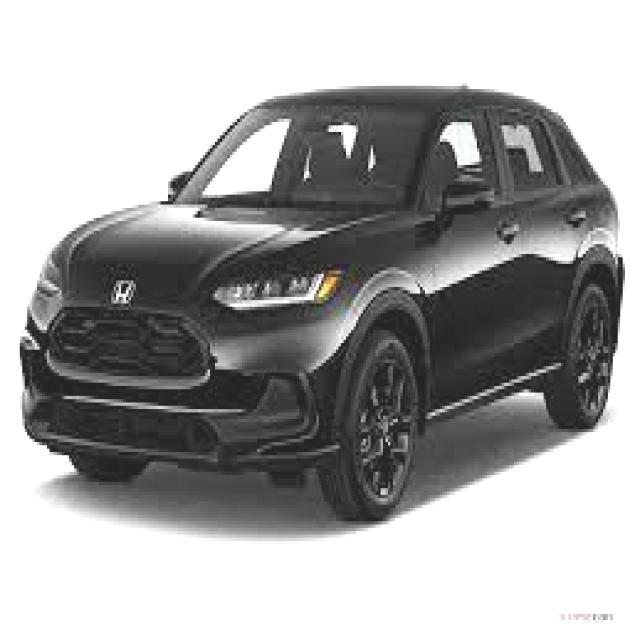SUV: (18, 74, 618, 516)
